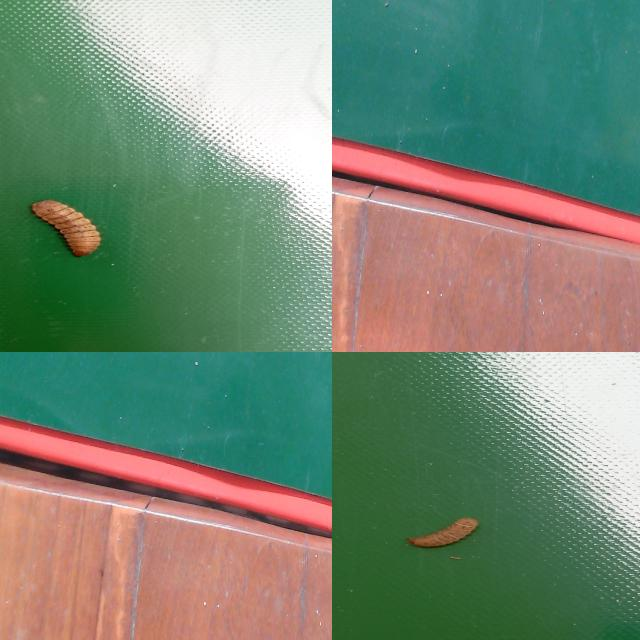Maggot: (30, 201, 102, 259), (406, 517, 480, 551)
